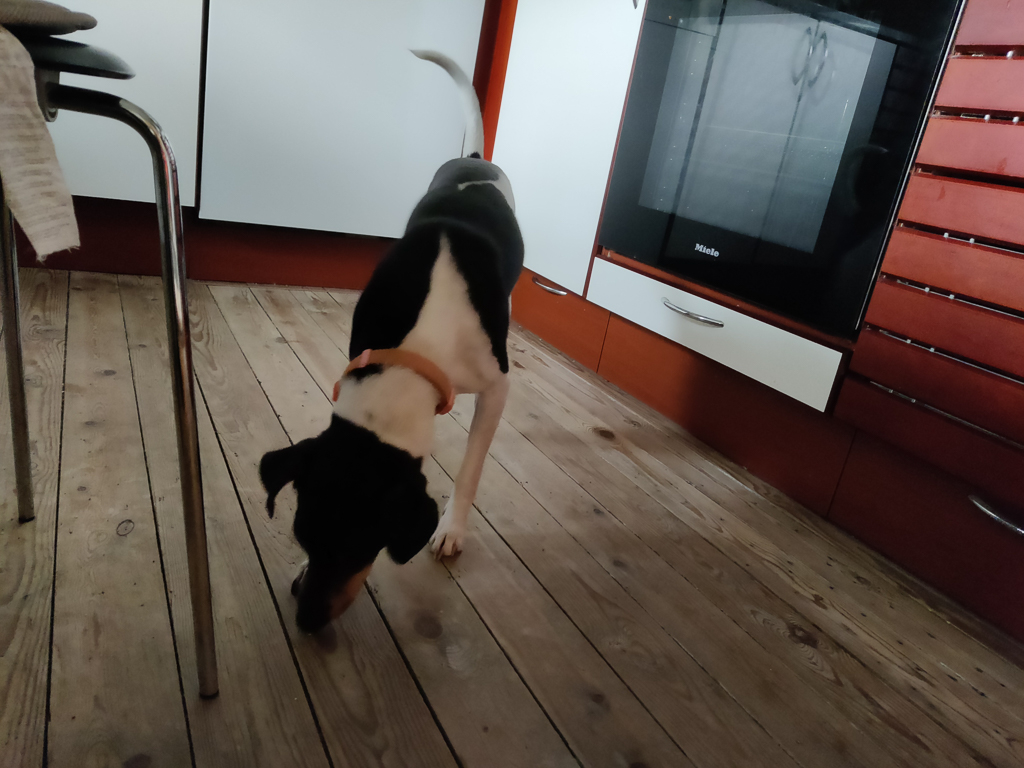Dog: (231, 29, 552, 647)
